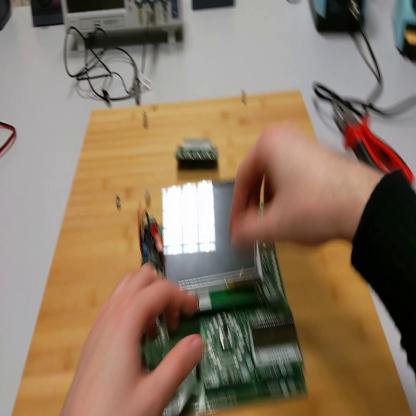hand: (59, 258, 204, 415), (230, 123, 350, 250)
low voltage board: (131, 173, 310, 415)
oscilloscope: (61, 1, 185, 56)
oscilloscope probe tip: (133, 61, 142, 105)
pliers: (332, 99, 414, 190)
socket: (31, 2, 64, 32), (1, 3, 14, 33)
welder base: (394, 2, 416, 66)
welder station: (310, 1, 366, 36)
working area: (15, 93, 411, 415)
